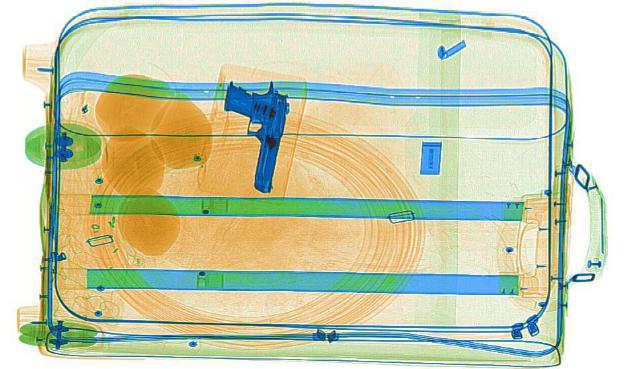Gun: (200, 82, 294, 191)
